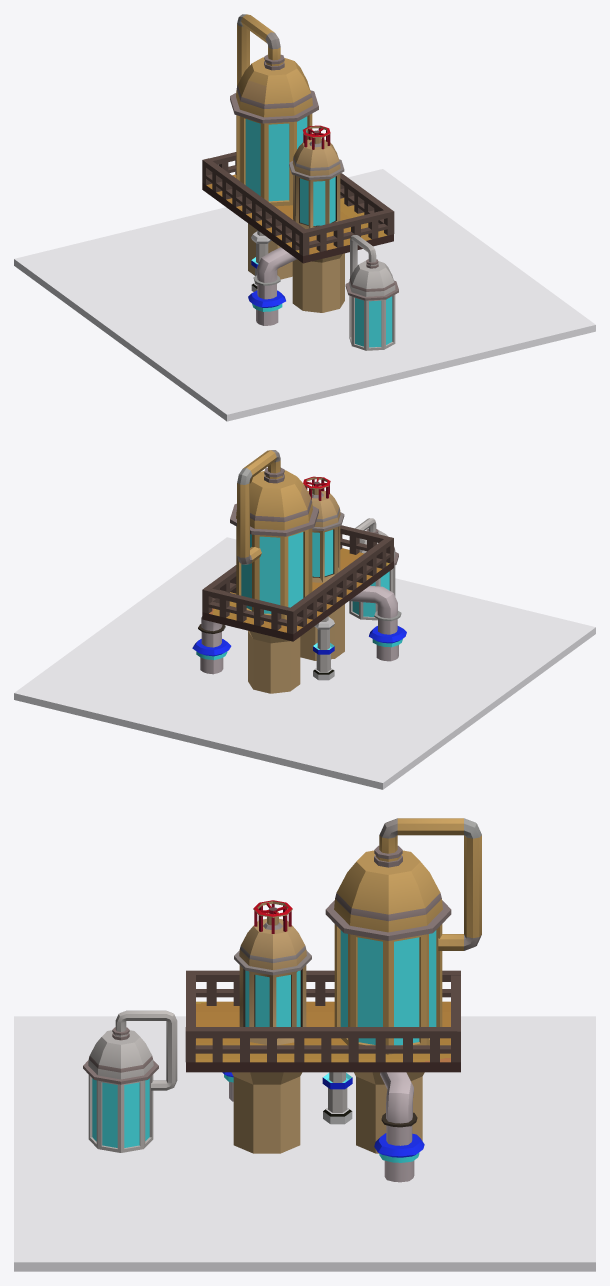
File: Clear water  4.fbx
3 views of the same model, one above another, from view 1: azimuth 30°, elevation 25°; view 2: azimuth 150°, elevation 25°; view 3: azimuth 270°, elevation 25° (orthographic). The views are drawn at different scales.
Visible parts, largest first — view 1: Cube.008, Cylinder.021, Cylinder.023, Cylinder.022, Cube.009, Cube.014, Cube.010, Cube.016, Cube.011, Cube.012; view 2: Cube.008, Cylinder.021, Cube.009, Cube.014, Cylinder.022, Cube.010, Cube.016, Cube.013, Cube.017, Cylinder.023, Cylinder.024, Cube.011 (+1 smaller); view 3: Cube.008, Cylinder.021, Cylinder.023, Cube.009, Cylinder.022, Cube.010, Cube.012, Cube.017, Cube.014, Cylinder.024, Cube.013.
Boxes of the visible parts, box(x1,y1,x2,y2) form: Cube.008: box(14, 169, 595, 421); Cylinder.021: box(230, 14, 318, 206); Cylinder.023: box(345, 235, 398, 350); Cylinder.022: box(289, 125, 344, 228); Cube.009: box(248, 223, 344, 312); Cube.014: box(202, 158, 305, 250); Cube.010: box(202, 174, 393, 263); Cube.016: box(248, 247, 296, 325); Cube.011: box(299, 210, 388, 255); Cube.012: box(340, 173, 394, 235); Cube.008: box(14, 537, 595, 789); Cylinder.021: box(230, 450, 318, 619); Cube.009: box(248, 604, 344, 693); Cube.014: box(287, 539, 390, 634); Cylinder.022: box(303, 476, 344, 582); Cube.010: box(202, 548, 393, 641); Cube.016: box(349, 585, 406, 661); Cube.013: box(202, 588, 289, 630); Cube.017: box(192, 616, 231, 674); Cylinder.023: box(349, 518, 398, 620); Cylinder.024: box(313, 616, 334, 680); Cube.011: box(340, 525, 393, 563); Cube.008: box(14, 1016, 595, 1271); Cylinder.021: box(325, 818, 481, 1054); Cylinder.023: box(83, 1010, 177, 1152); Cube.009: box(231, 1072, 424, 1153); Cylinder.022: box(234, 900, 311, 1045); Cube.010: box(186, 1001, 460, 1072); Cube.012: box(185, 1027, 457, 1062); Cube.017: box(374, 1072, 424, 1182); Cube.014: box(196, 970, 460, 1005); Cylinder.024: box(322, 1072, 352, 1124); Cube.013: box(451, 975, 460, 1062).
Bounding box in the file's own units: 812 × 508 × 812.
